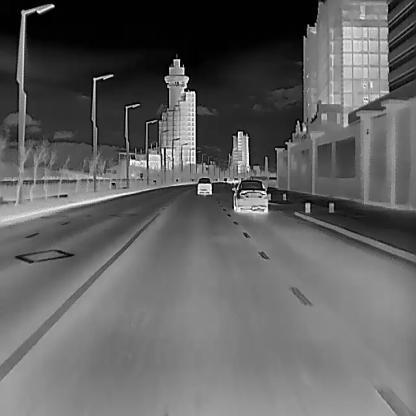car: (231, 179, 268, 212), (197, 176, 211, 195)
